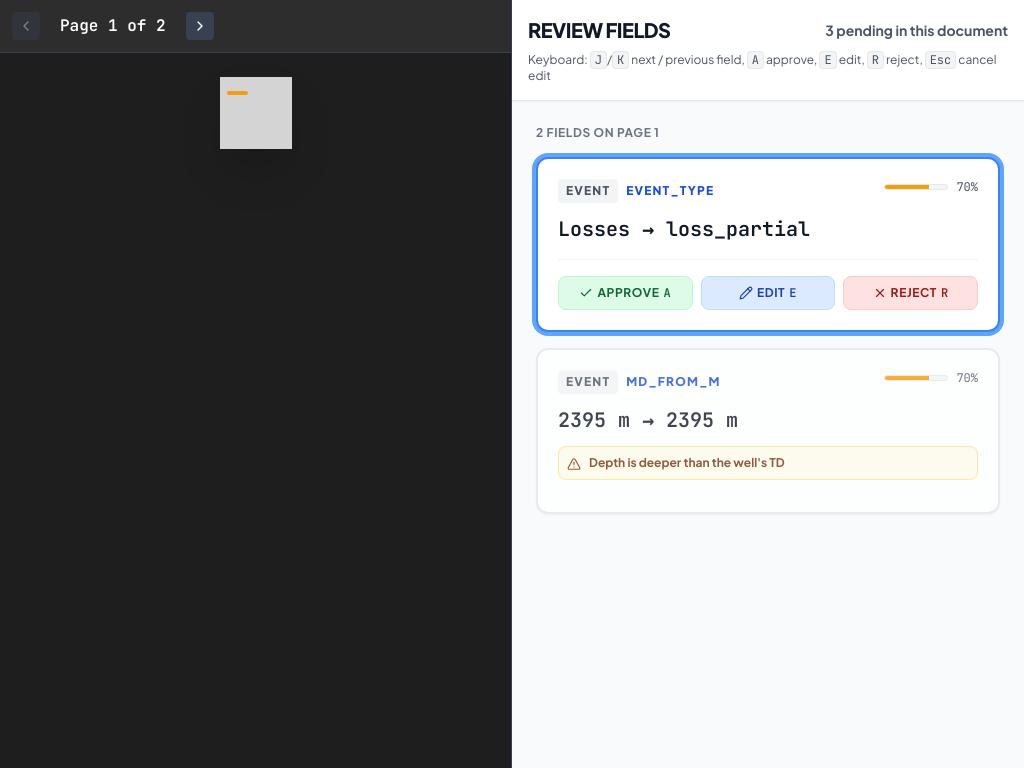
Scenario: ReviewDoc keyboard-only review › page navigation buttons move between pages and select that page's field
Expected: the text "Page 1 of 2" is shown, [60,15,166,36]
Click the button named "Next page".
click(200, 26)  # box [186,12,214,40]
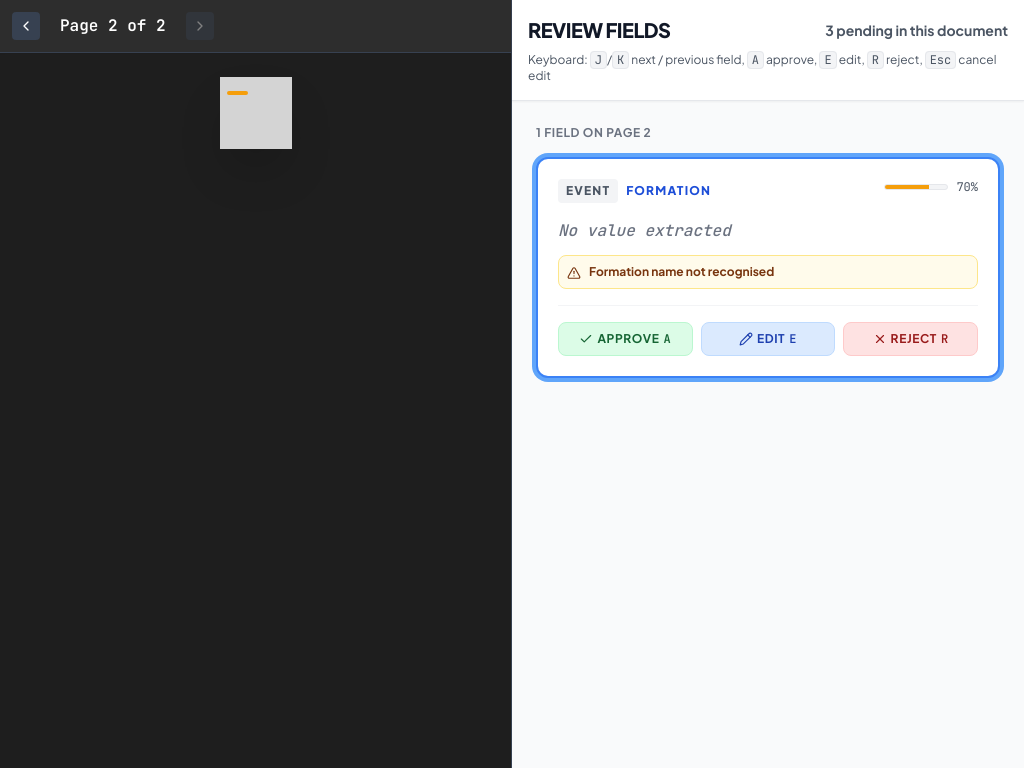
Now the text "Page 2 of 2" is shown, box [60,15,166,36]
